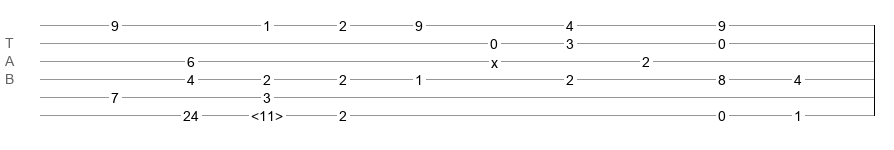0: (490, 36, 498, 46), (718, 36, 726, 46), (718, 108, 726, 118)
1: (263, 18, 271, 28), (415, 72, 423, 82), (794, 108, 802, 118)
2: (263, 72, 271, 82), (339, 108, 347, 118), (339, 72, 347, 82), (339, 18, 347, 28), (566, 72, 574, 82), (642, 54, 650, 64)
24: (183, 108, 199, 118)
3: (263, 90, 271, 100), (566, 36, 574, 46)
4: (187, 72, 195, 82), (566, 18, 574, 28), (794, 72, 802, 82)
6: (187, 54, 195, 64)
7: (111, 90, 119, 100)
8: (718, 72, 726, 82)
9: (111, 18, 119, 28), (415, 18, 423, 28), (718, 18, 726, 28)
harmonic: (251, 108, 283, 118)
x: (491, 55, 498, 63)
